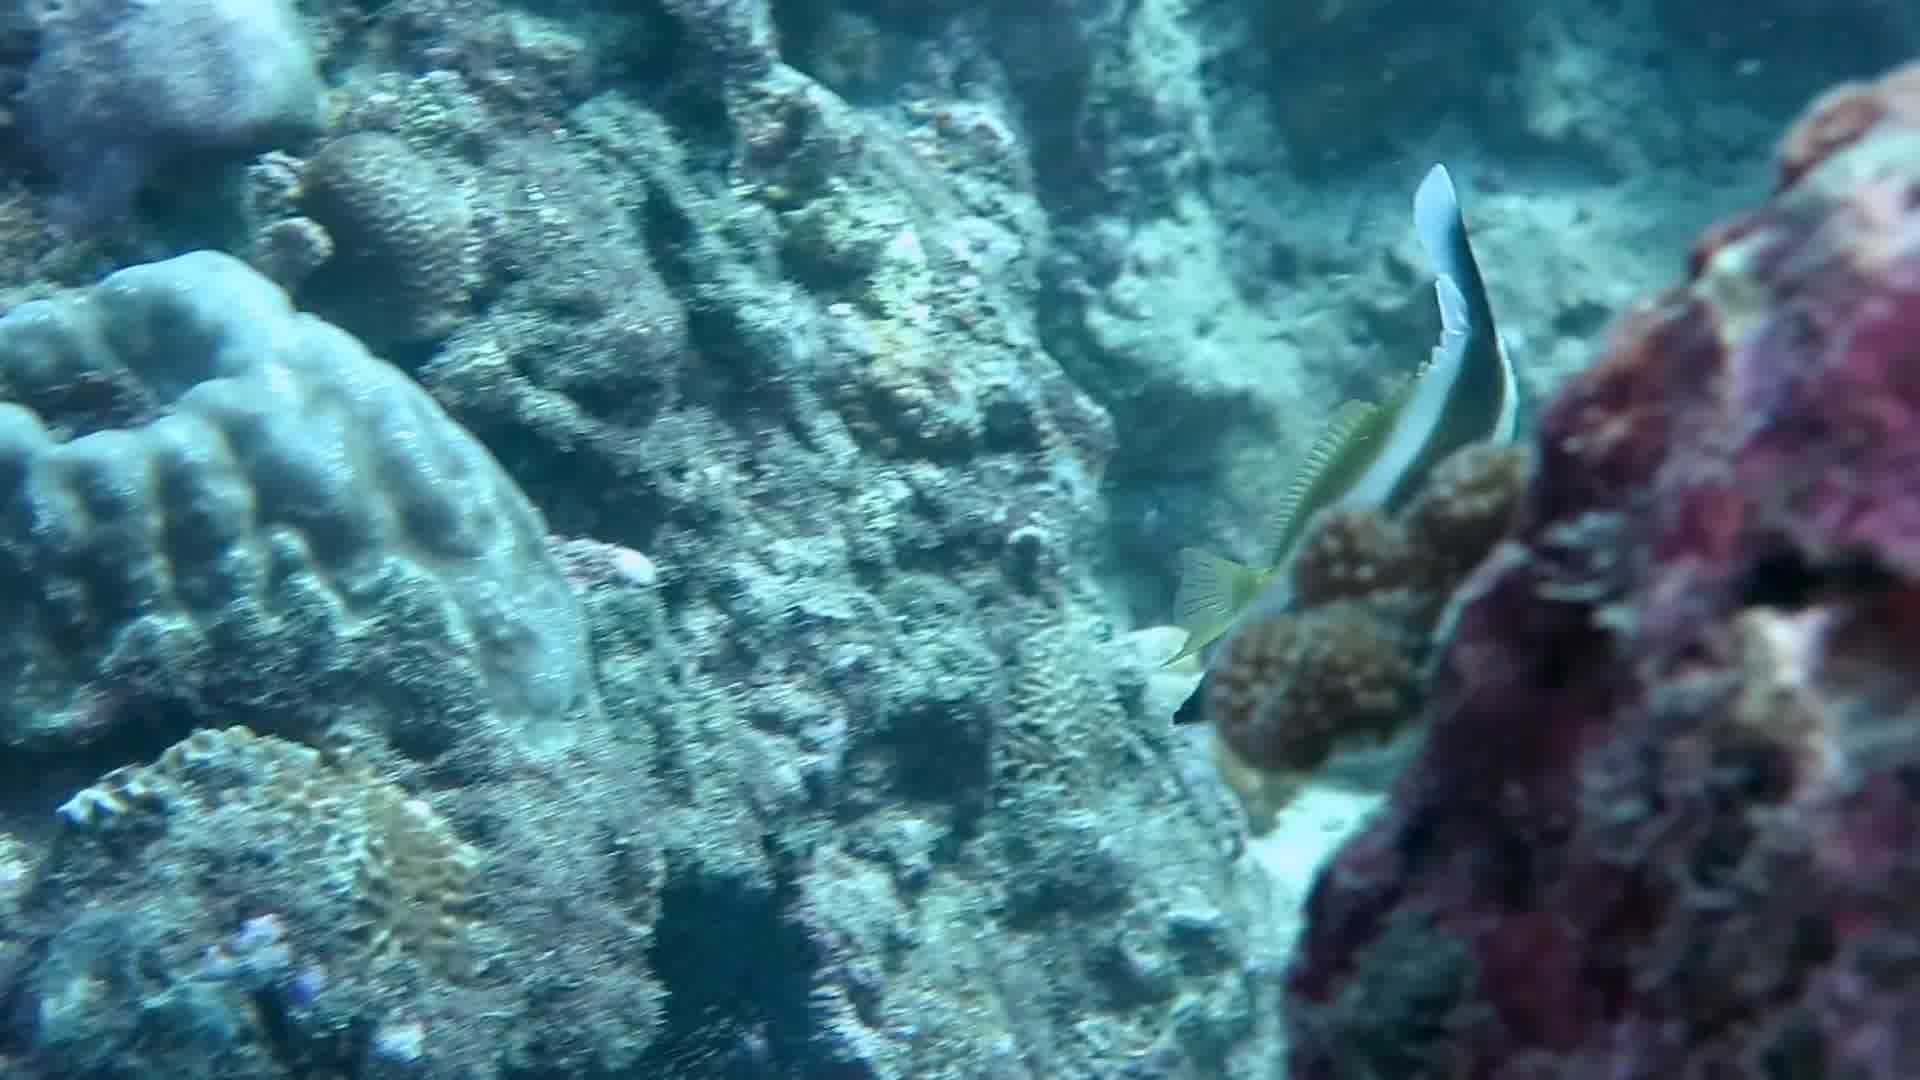Heniochus chrysostomus: (1102, 95, 1749, 684)
